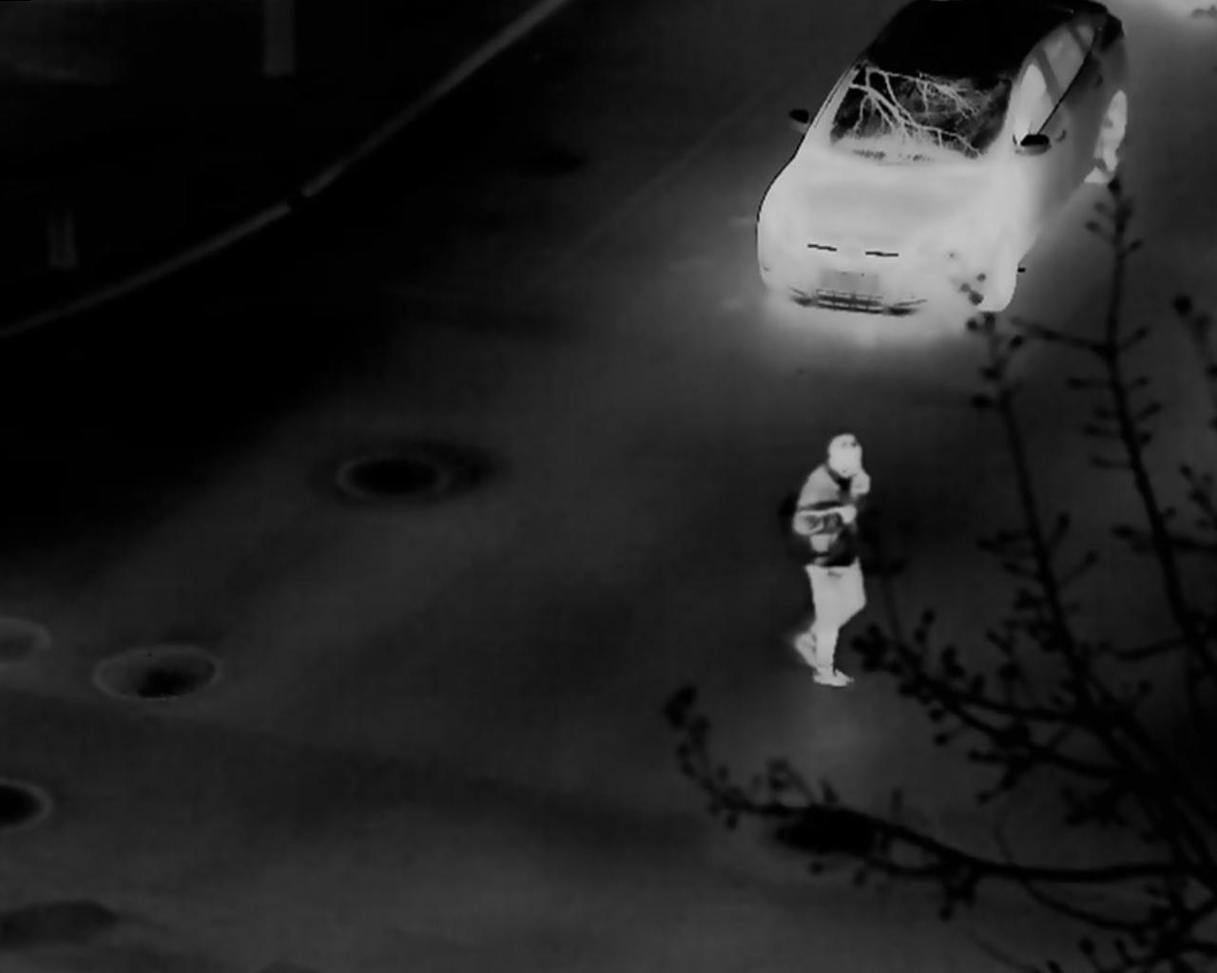person: (791, 430, 871, 686)
